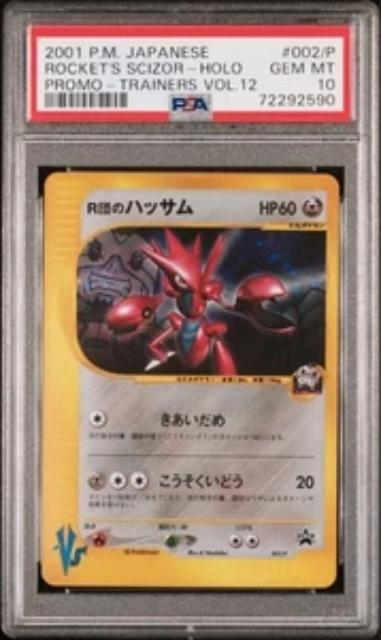Card: (36, 165, 346, 594)
Name: (84, 192, 199, 224)
